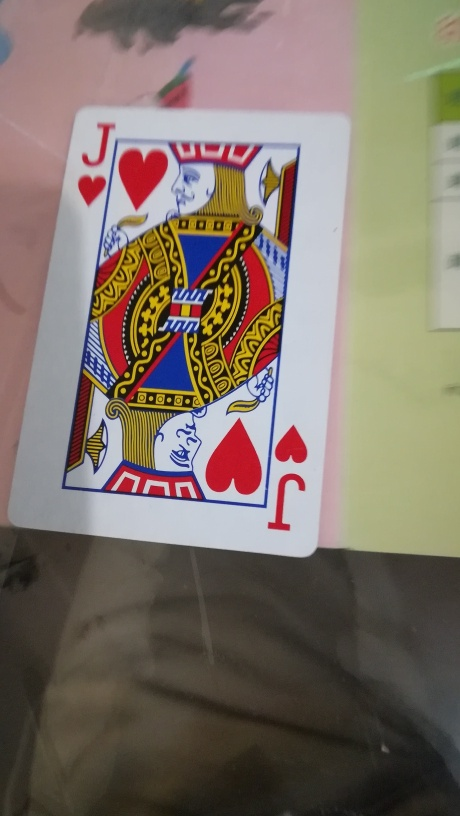hx j: (8, 102, 350, 568)
